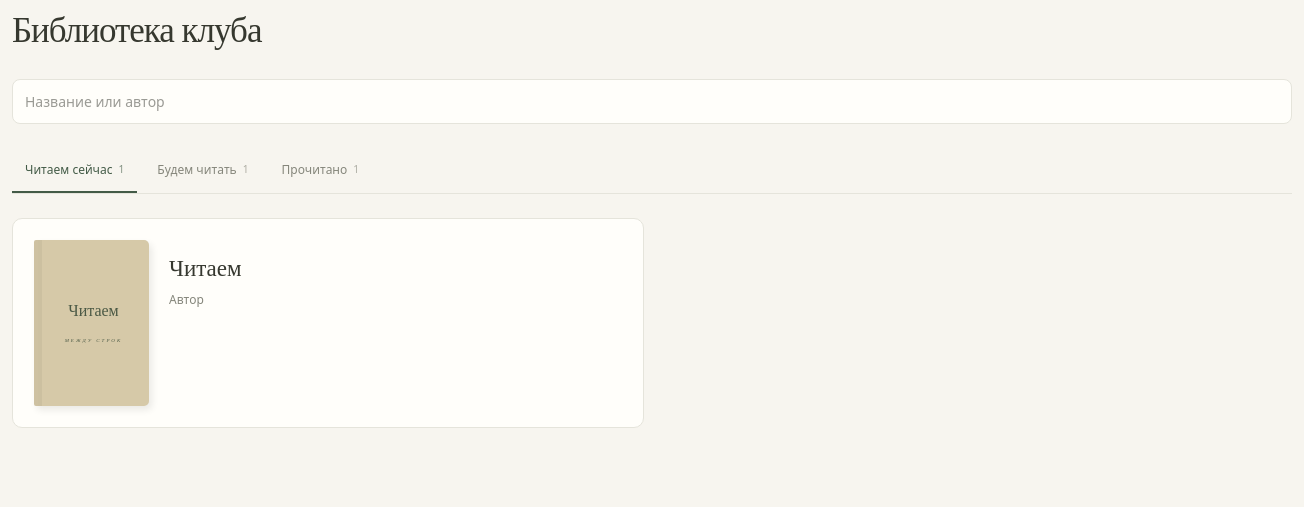
каталог разделён на текущие, будущие и прочитанные книги и поддерживает поиск
Expected: the heading "Читаем" is shown, x1=169 y1=256 x2=242 y2=281
Click the button "Будем читать 1": (203, 171) x1=144 y1=149 x2=262 y2=193
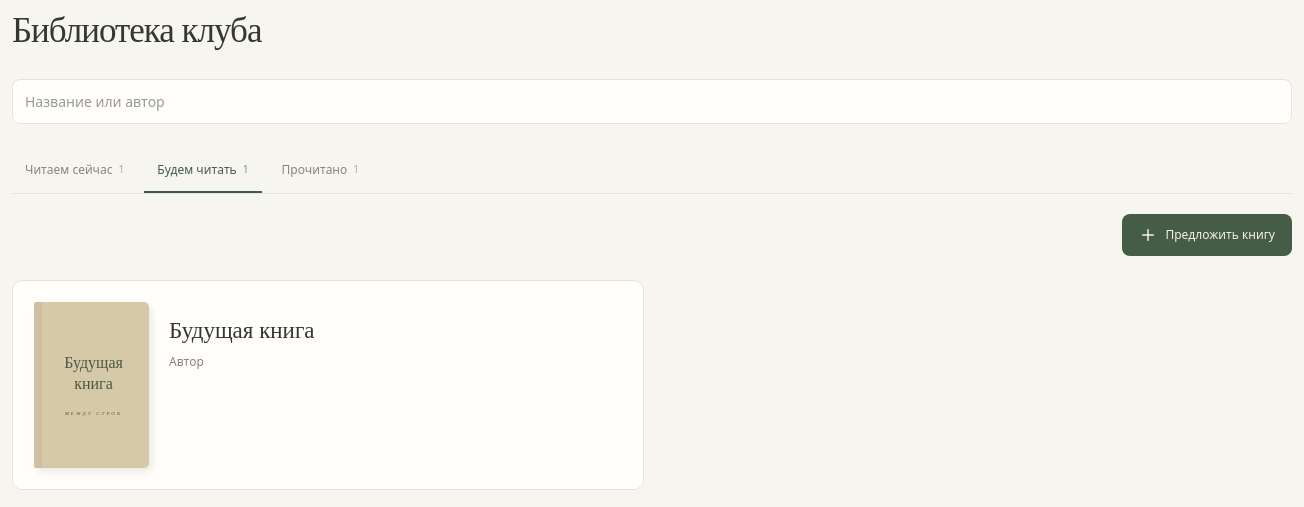
Expected: the heading "Будущая книга" is shown, x1=169 y1=318 x2=315 y2=343
In the field named "Поиск книг клуба": (652, 102) x1=12 y1=79 x2=1292 y2=124, type "нет такого"
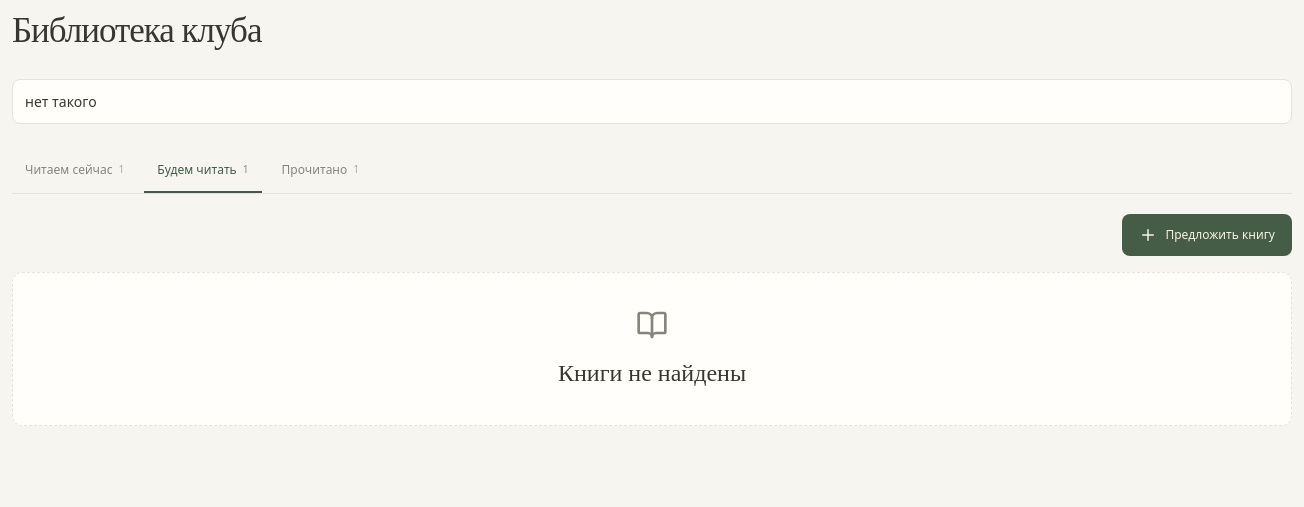
Expected: the heading "Книги не найдены" is shown, x1=558 y1=360 x2=746 y2=386
